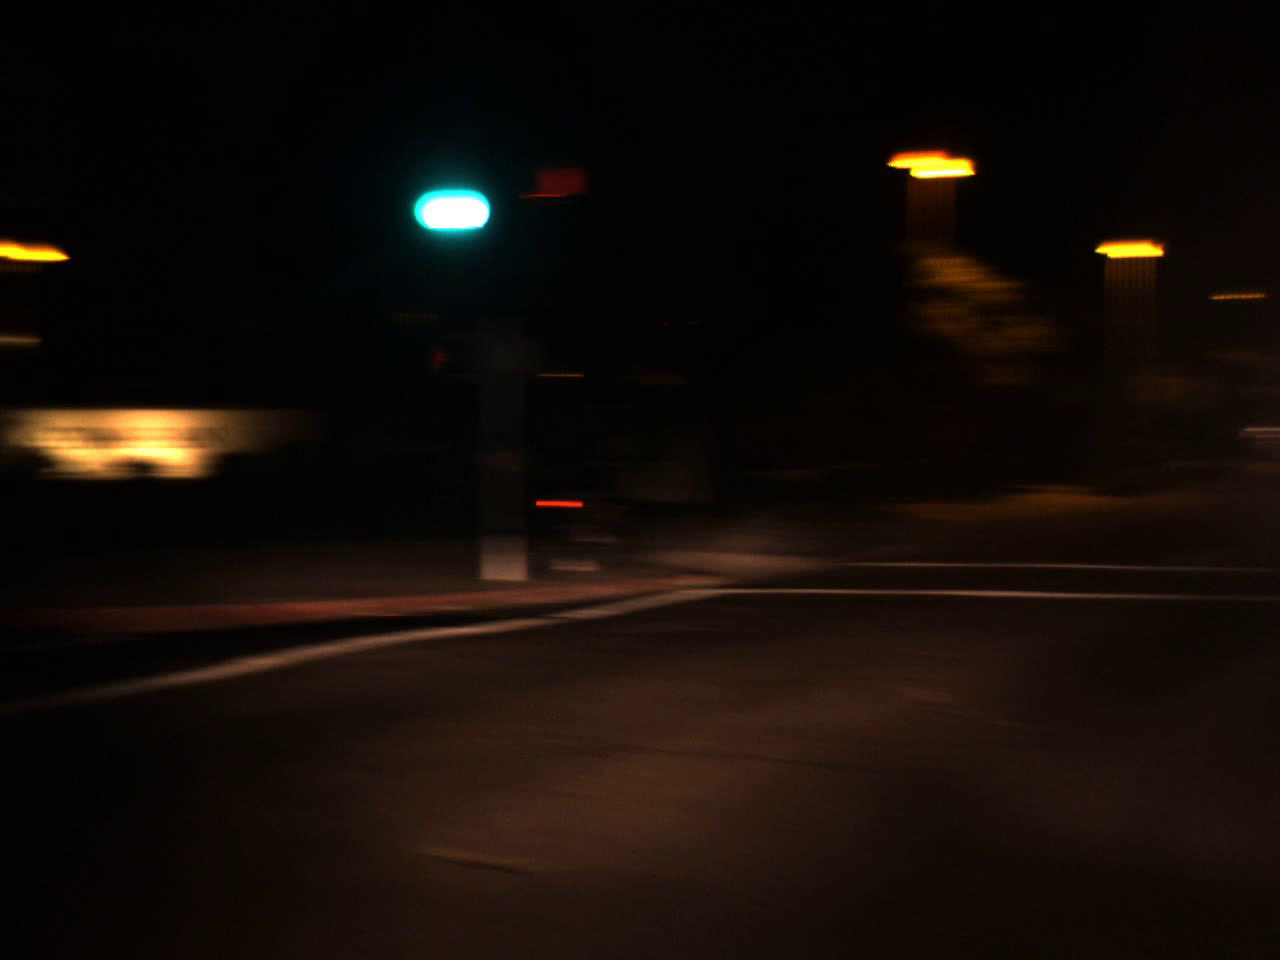go: (403, 135, 496, 246)
